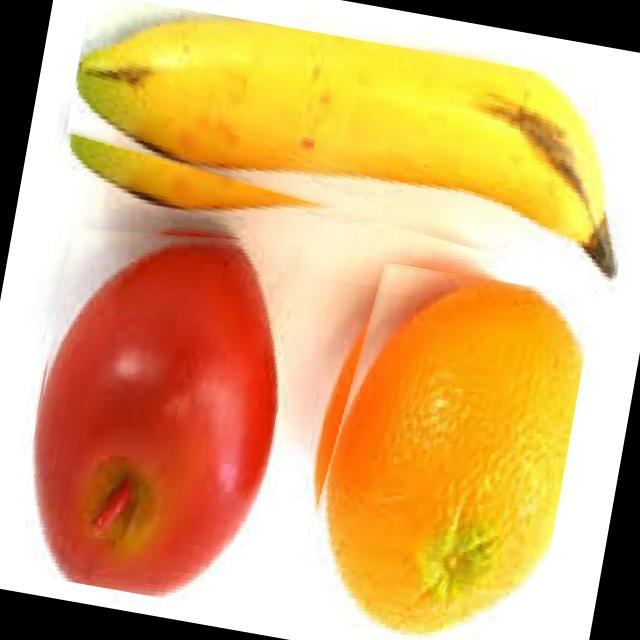Organic: (55, 0, 640, 287), (8, 202, 309, 612), (285, 251, 593, 640)
